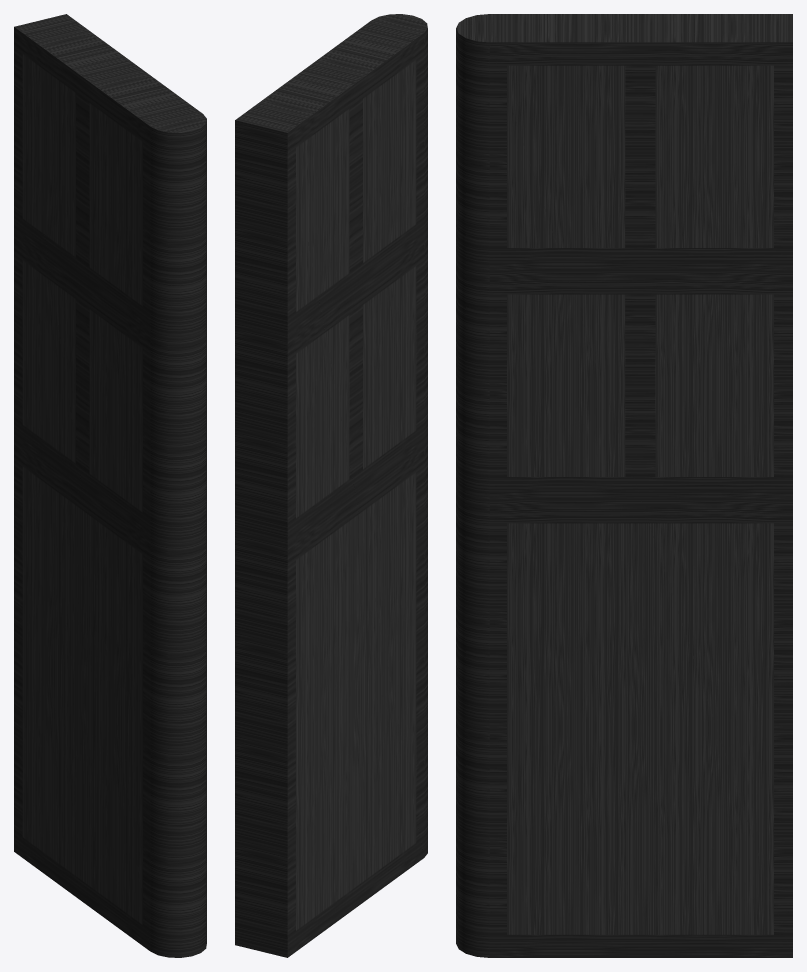
Rendered from PuertaExterior.fbx.
3 views of the same model, side by side, from view 1: azimuth 30°, elevation 25°; view 2: azimuth 150°, elevation 25°; view 3: azimuth 270°, elevation 25° (orthographic). The views are drawn at different scales.
Visible parts, largest first — view 1: PuertaExterior; view 2: PuertaExterior; view 3: PuertaExterior.
Boxes of the visible parts, <box> form: PuertaExterior: <box>14,14,206,957</box>; PuertaExterior: <box>235,14,427,957</box>; PuertaExterior: <box>456,14,792,957</box>.
Size of what is drawn, in the model's own units: 100 by 20 by 300.
